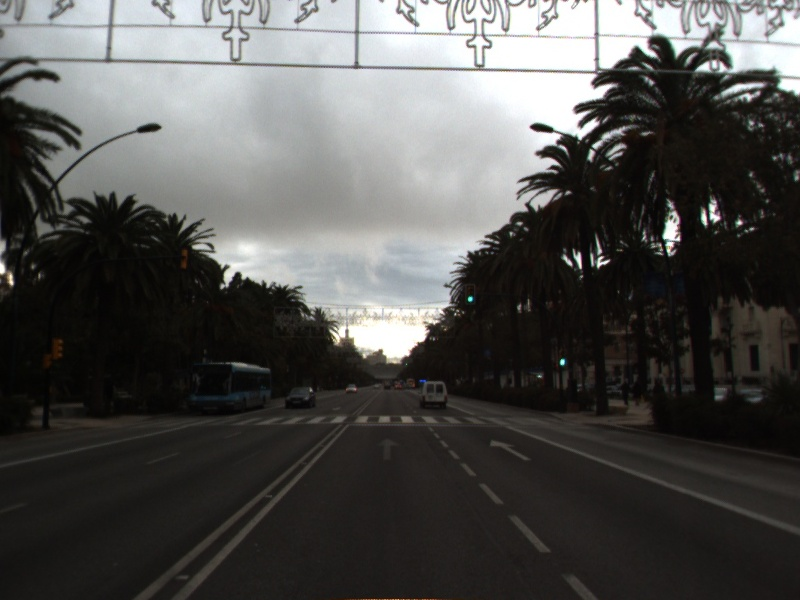STRAIGHT: (488, 437, 534, 462), (375, 436, 403, 462)
